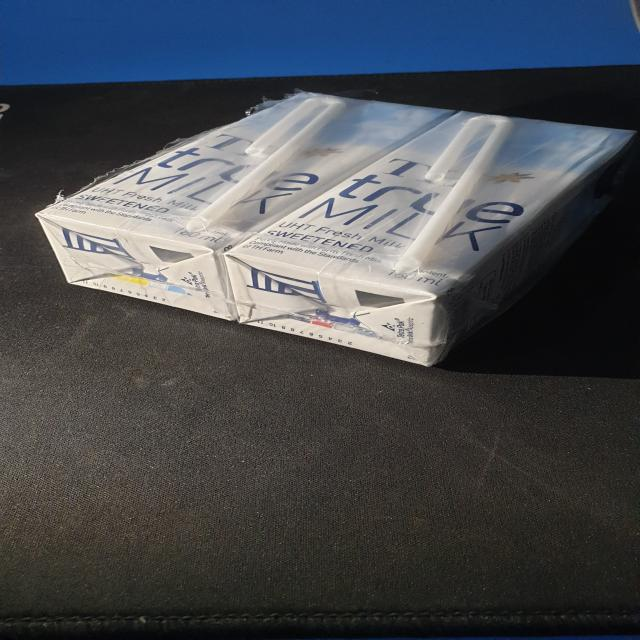TH: (218, 111, 633, 366), (35, 90, 450, 322)
